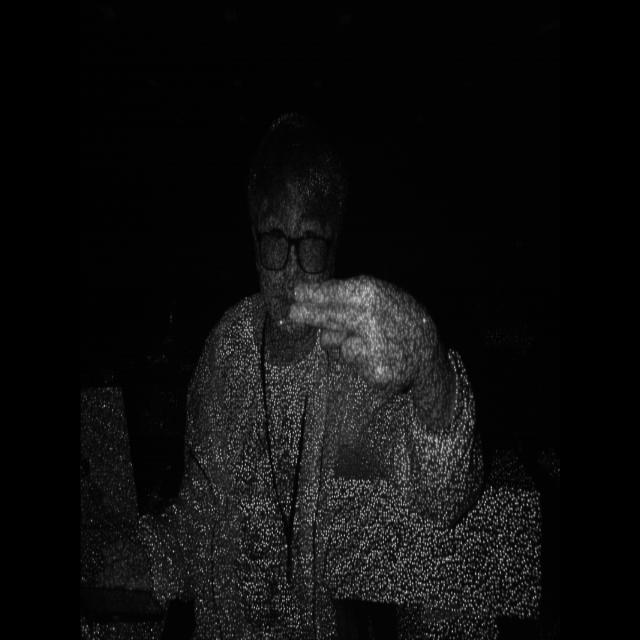H: (278, 258, 478, 448)
